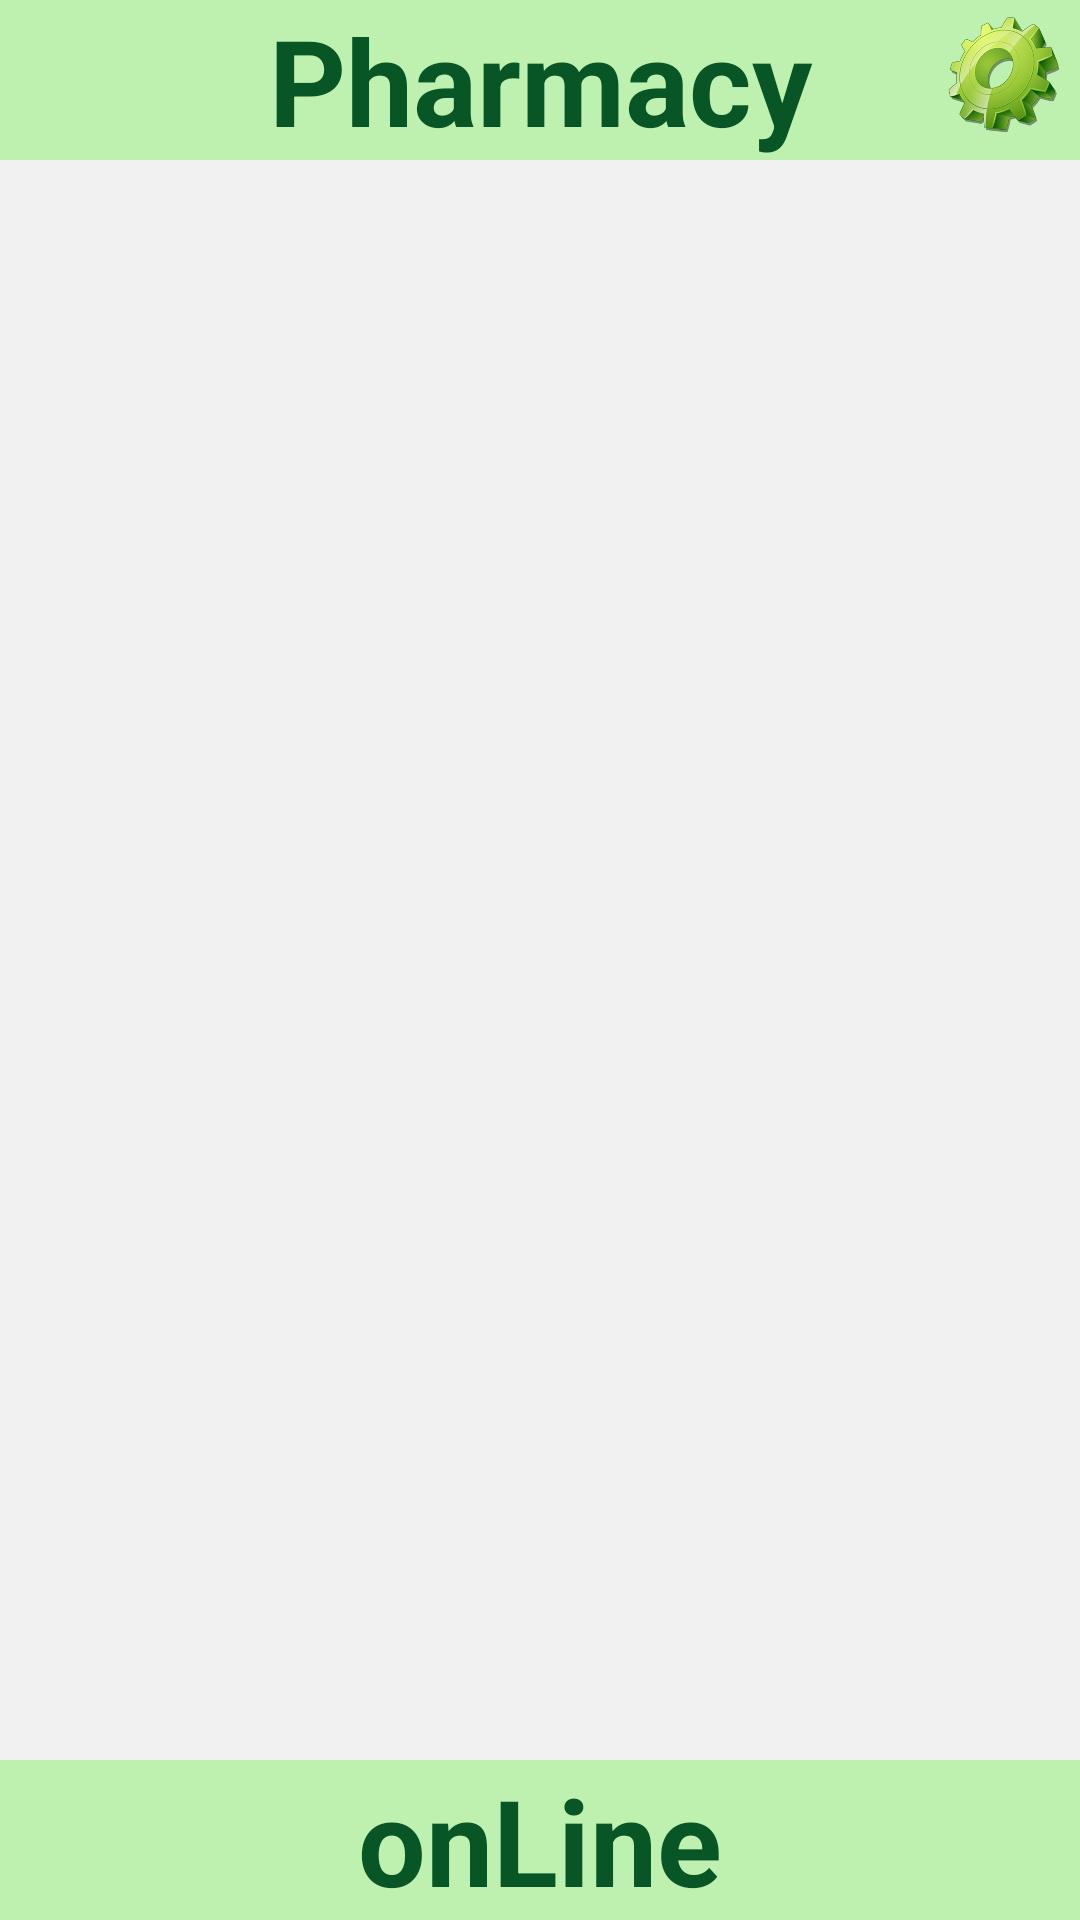

Icon bounding boxes for this 1080w x 1920h phone screenshot, format (x1, y1, x2, y2):
gear: (949, 17, 1059, 132)
